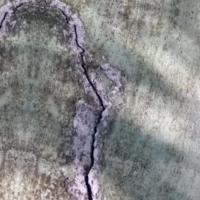crack: (25, 0, 107, 199)
